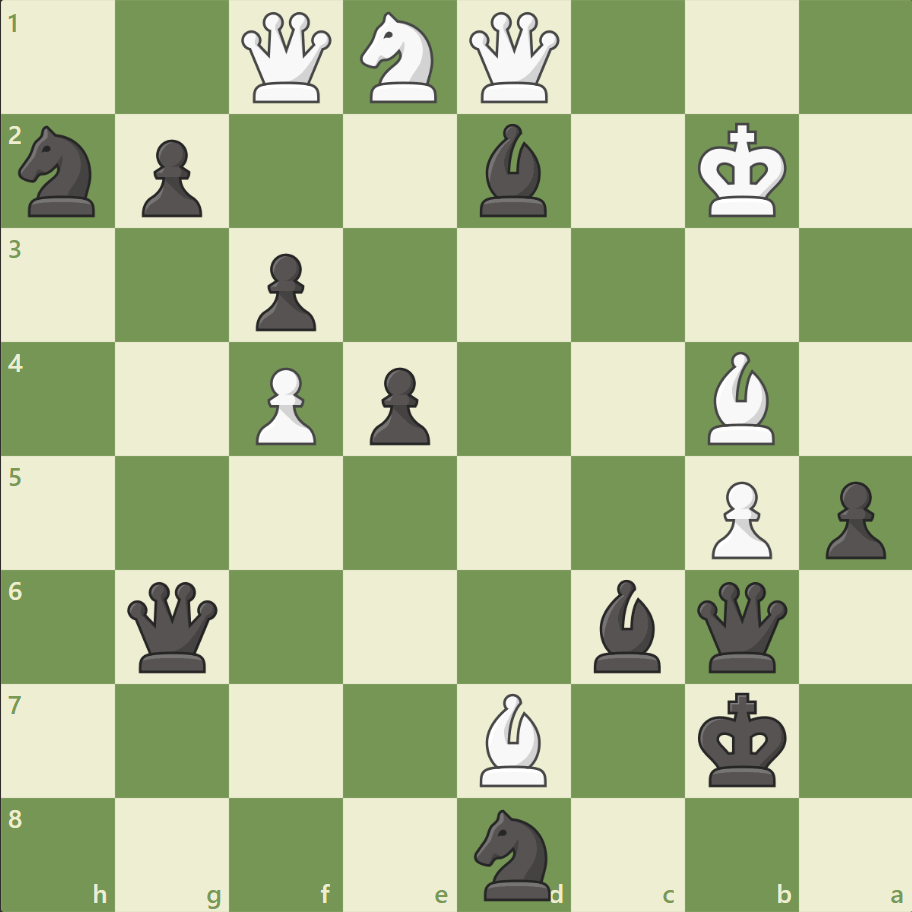B: (471, 687, 555, 790), (698, 347, 782, 449)
K: (692, 117, 792, 225)
N: (351, 7, 449, 110)
P: (701, 473, 776, 564), (247, 359, 322, 450)
Q: (464, 9, 563, 108), (237, 9, 336, 108)
b: (585, 574, 669, 676), (471, 120, 555, 222)
k: (692, 685, 792, 793)
n: (465, 802, 562, 904), (11, 121, 108, 223)
p: (247, 246, 322, 337), (133, 132, 208, 223), (815, 473, 889, 564), (361, 359, 435, 450)
q: (691, 576, 790, 676), (124, 576, 223, 676)
